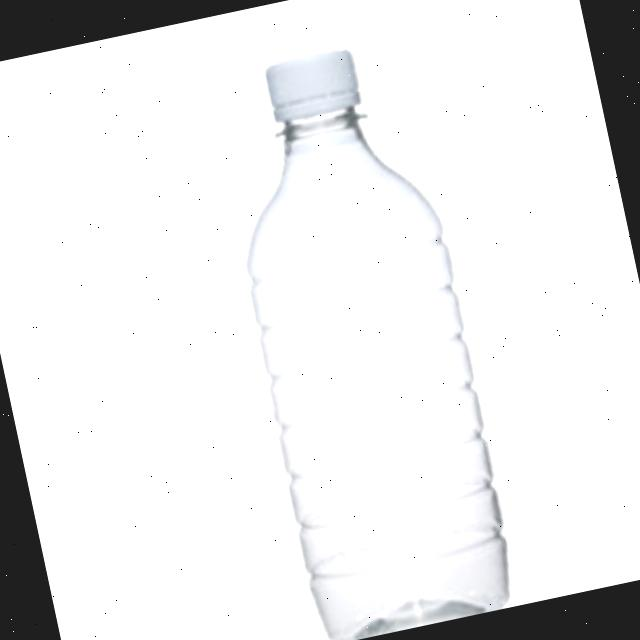trash: (192, 20, 536, 640)
